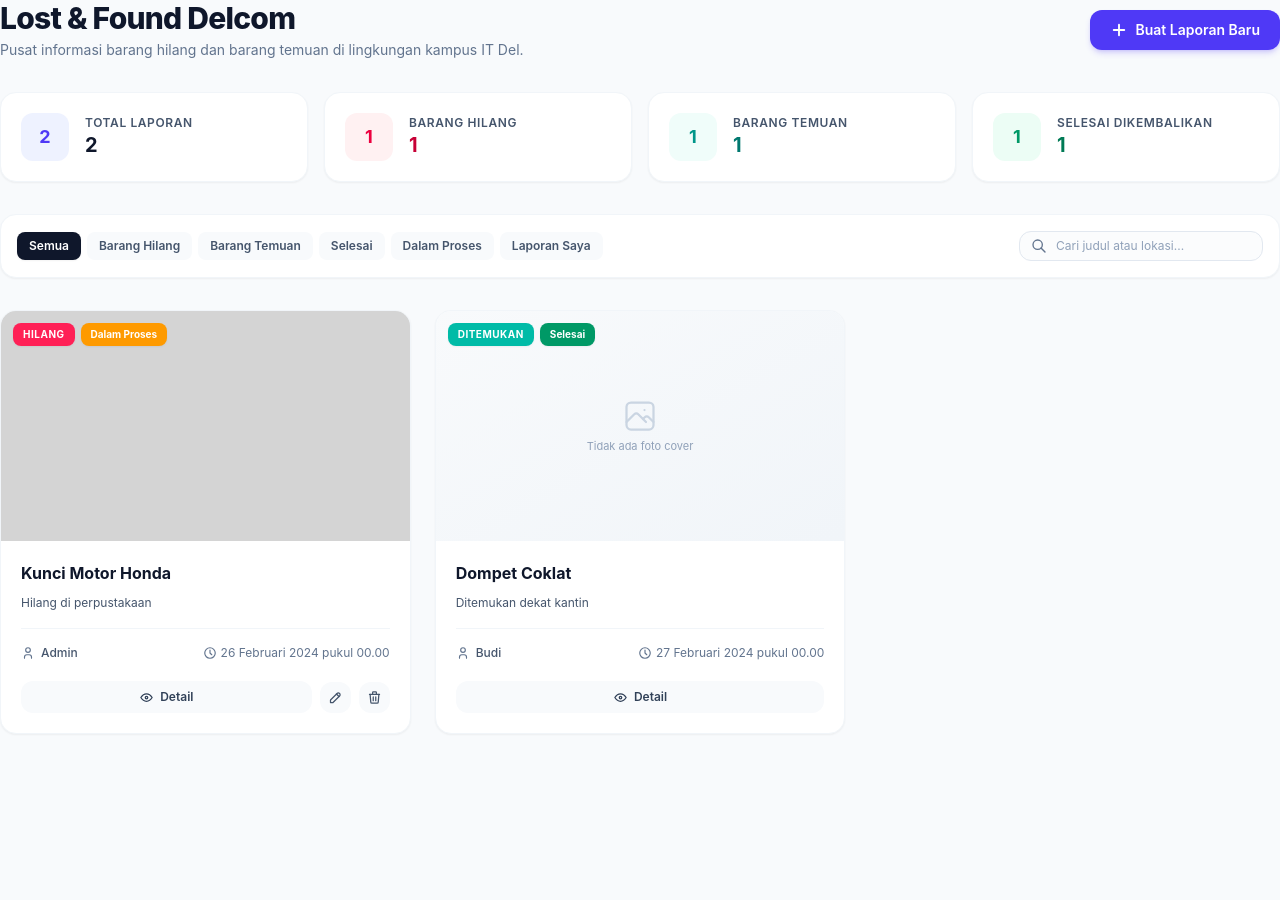
HomePage › should open and close Add Modal
Click the button with test id "open-add-modal-btn": coordinates (1185, 30) left=1090, top=10, right=1279, bottom=50
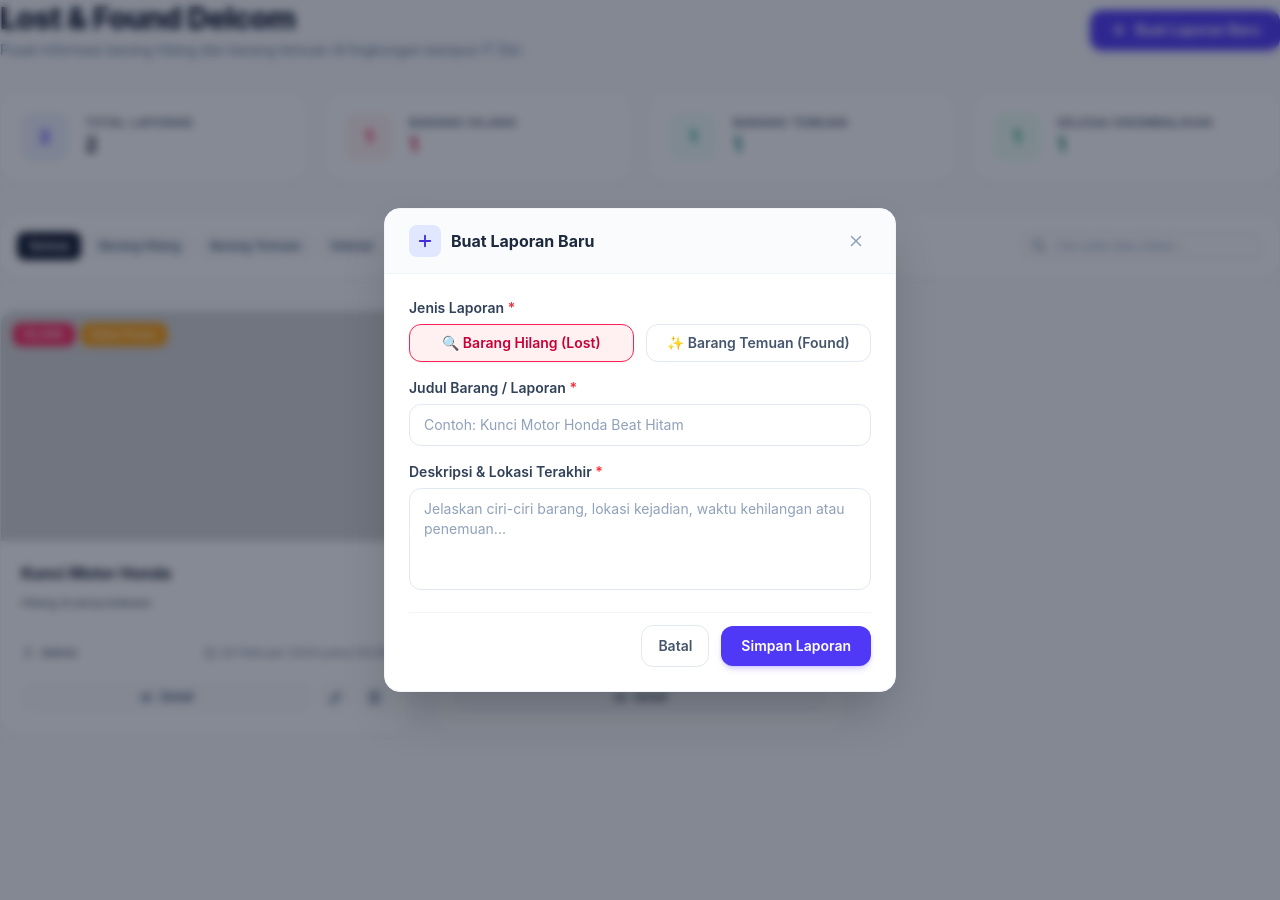
Expected: the dialog with test id "add-lost-found-modal" is shown
Click the button with test id "close-add-modal-btn": coordinates (856, 241) left=841, top=226, right=871, bottom=256
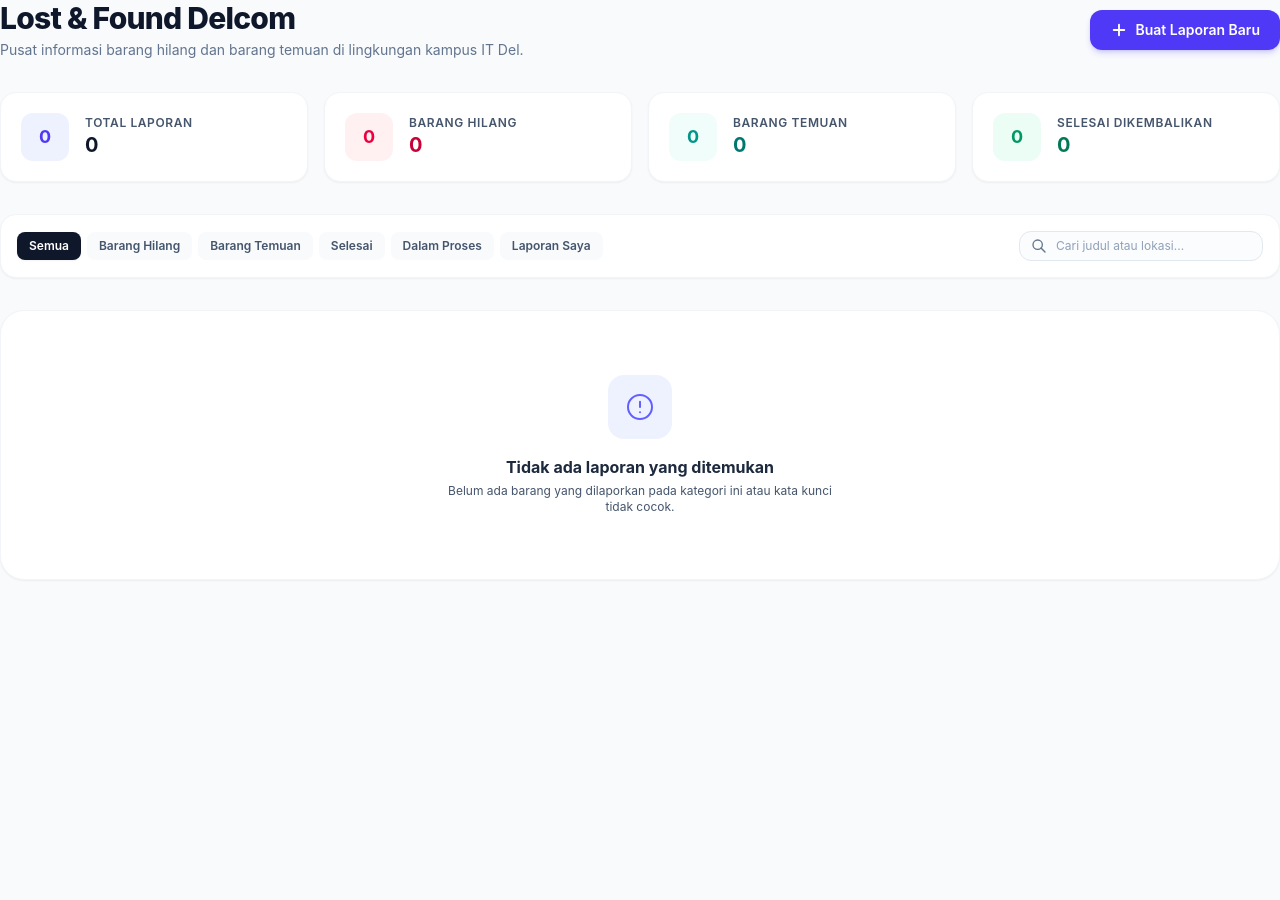
Expected: the dialog with test id "add-lost-found-modal" is gone
